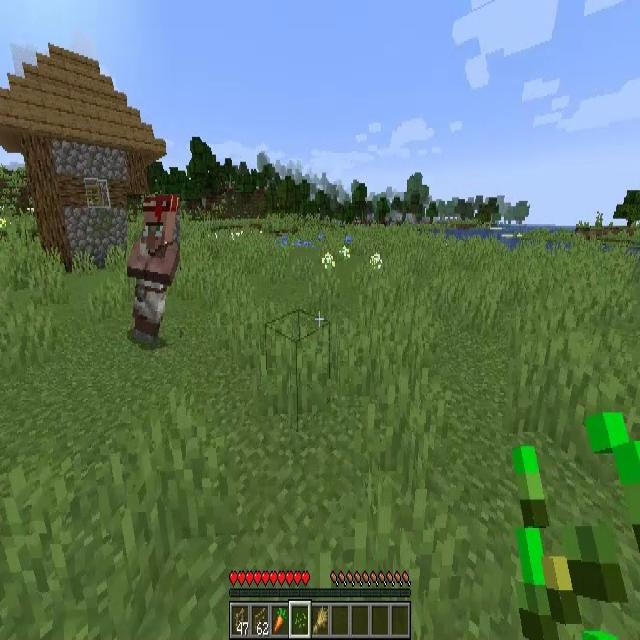flower: (371, 252, 382, 274)
people: (127, 194, 180, 344)
